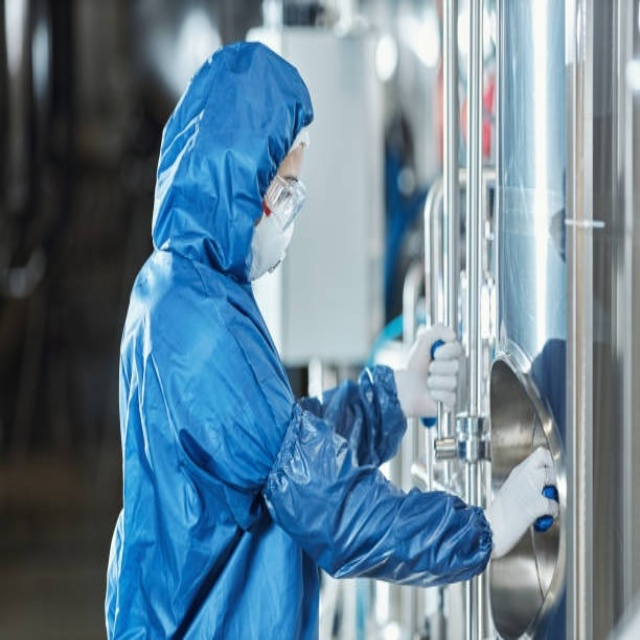Gafas: (261, 173, 308, 232)
Guantes: (486, 443, 557, 561), (397, 320, 463, 420)
Mascara: (249, 169, 305, 280)
